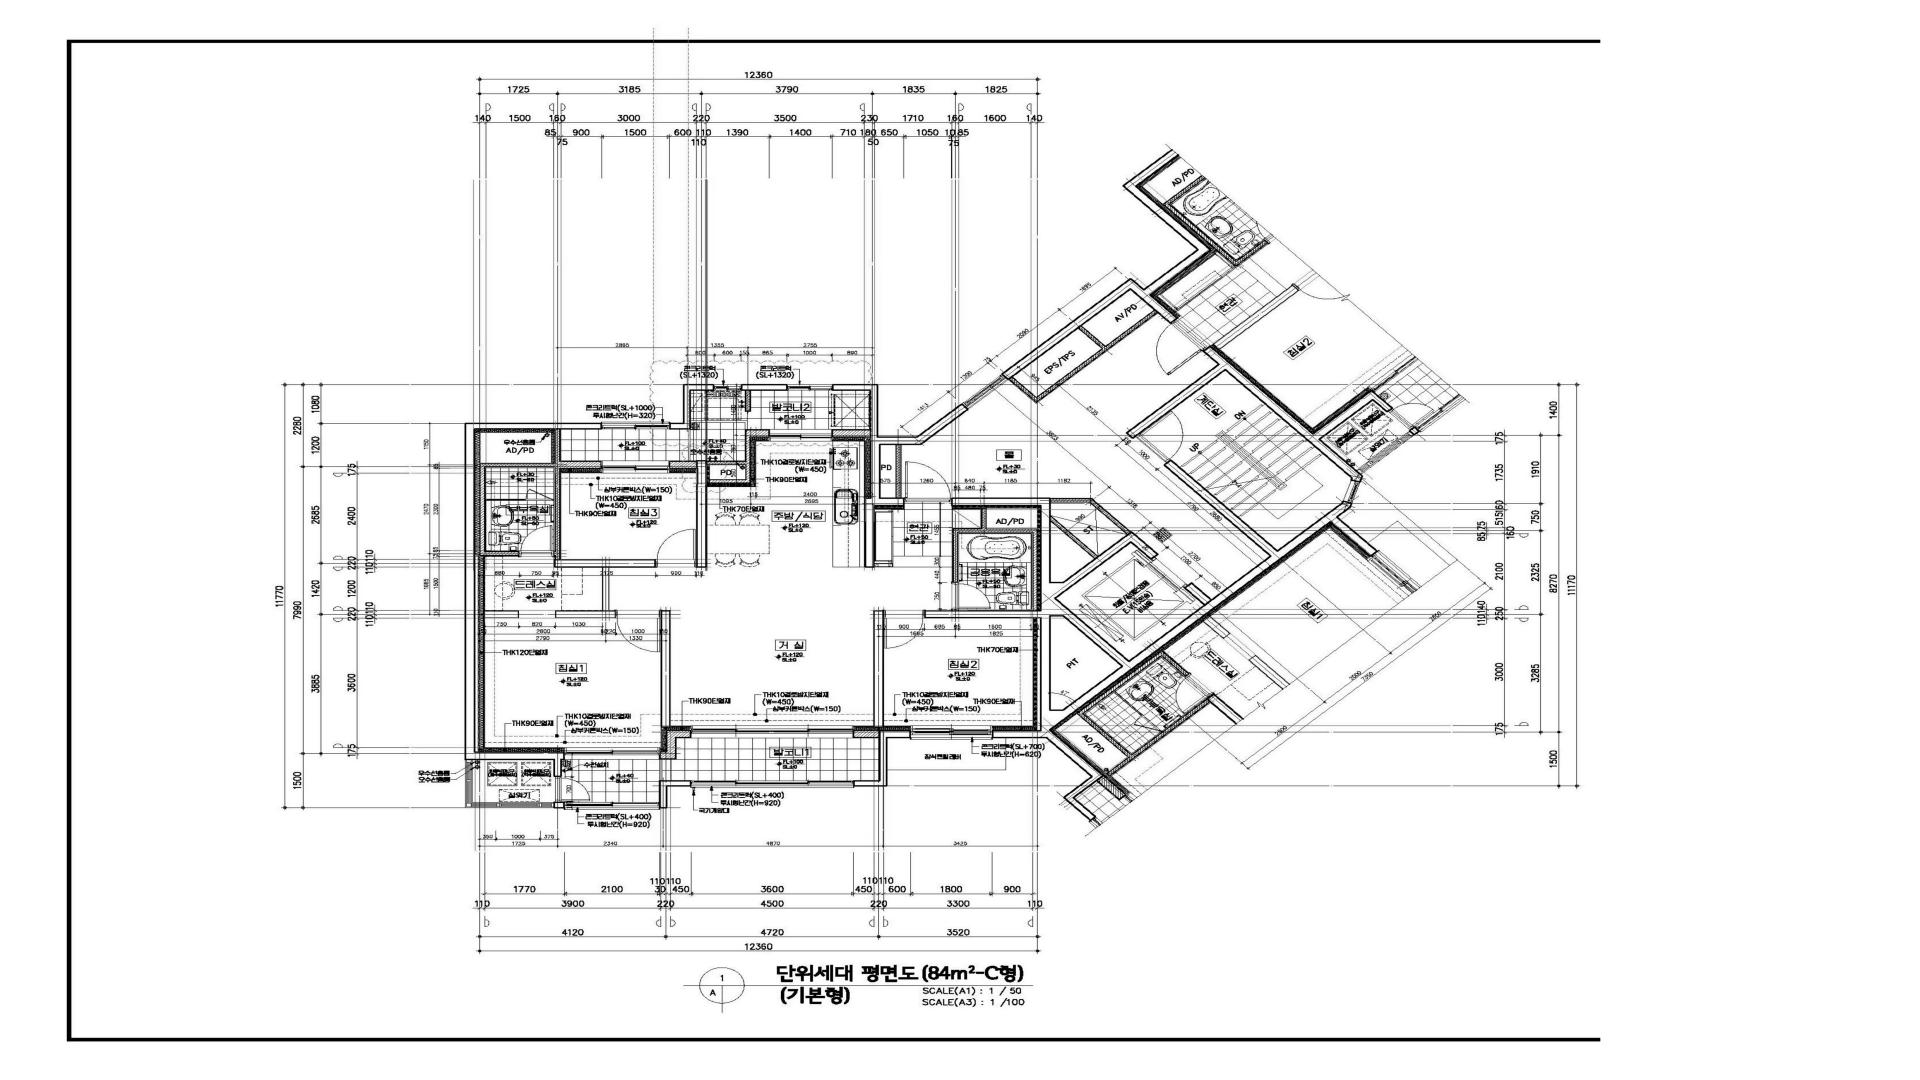door: (1136, 411, 1200, 462), (904, 461, 951, 502), (615, 610, 660, 652), (655, 528, 696, 568), (884, 610, 925, 650), (519, 526, 553, 557), (952, 583, 991, 610), (555, 777, 591, 802)
wall: (924, 459, 1352, 738), (464, 423, 601, 777), (479, 430, 656, 619), (1126, 345, 1363, 483), (832, 384, 969, 568), (1001, 278, 1178, 380), (1009, 310, 1157, 404), (669, 429, 769, 568), (952, 508, 1038, 610), (853, 730, 911, 787), (1050, 498, 1131, 534), (1051, 515, 1098, 559), (670, 384, 714, 430), (873, 609, 884, 727), (660, 610, 671, 727), (660, 730, 691, 760), (659, 780, 691, 809), (895, 445, 902, 498), (832, 429, 869, 438), (741, 384, 788, 391), (485, 610, 519, 619), (745, 391, 751, 412), (875, 563, 893, 567), (554, 802, 564, 809)
window: (465, 760, 554, 809), (691, 725, 853, 738), (961, 374, 1009, 410), (690, 780, 854, 788), (564, 747, 660, 760), (910, 725, 993, 740), (601, 460, 669, 473), (769, 428, 832, 441), (564, 802, 659, 810), (601, 421, 670, 430), (1342, 481, 1361, 503), (787, 384, 832, 391), (715, 384, 741, 391)
